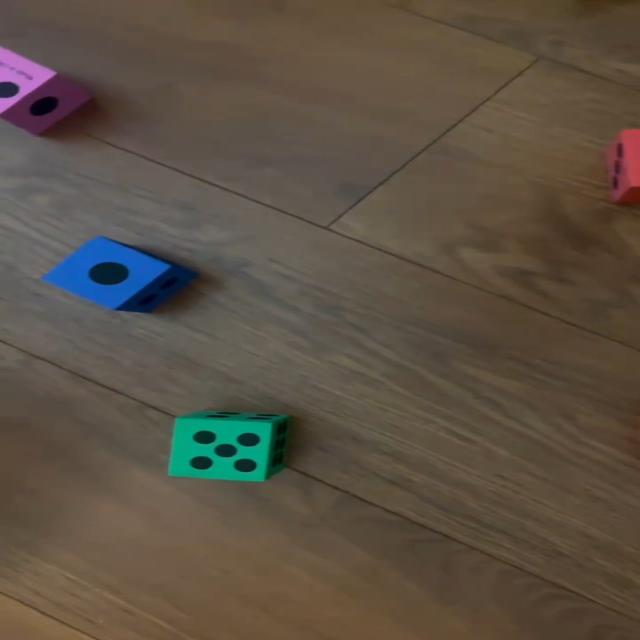blue_block: (40, 236, 190, 313)
red_block: (607, 130, 640, 202)
